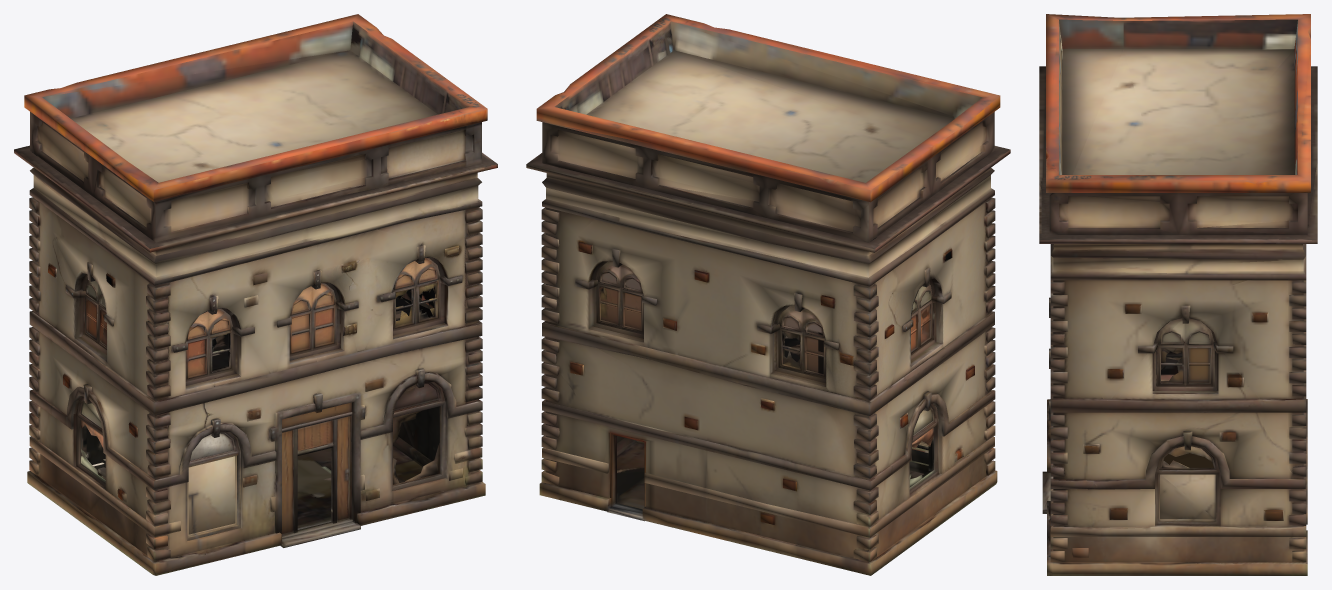
The model's file is house_5.fbx.
3 views of the same model, side by side, from view 1: azimuth 30°, elevation 25°; view 2: azimuth 150°, elevation 25°; view 3: azimuth 270°, elevation 25° (orthographic). The views are drawn at different scales.
Visible parts, largest first — view 1: input; view 2: input; view 3: input.
Boxes of the visible parts, bbox=[...] form: input: bbox=[14, 14, 497, 575]; input: bbox=[526, 14, 1010, 575]; input: bbox=[1039, 14, 1317, 575].
Bounding box in the file's own units: 188 × 200 × 127.
1 material, 1 textured.
